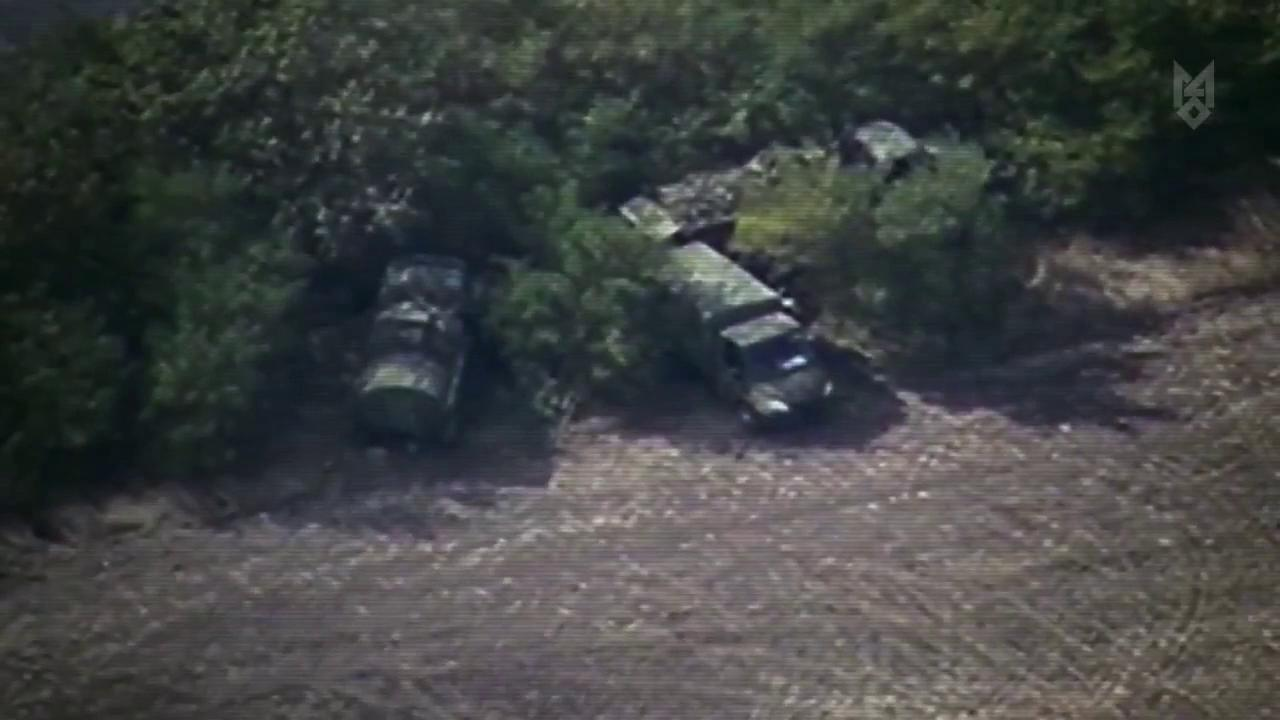tank: (622, 116, 961, 243), (639, 238, 840, 451), (354, 246, 487, 453)
